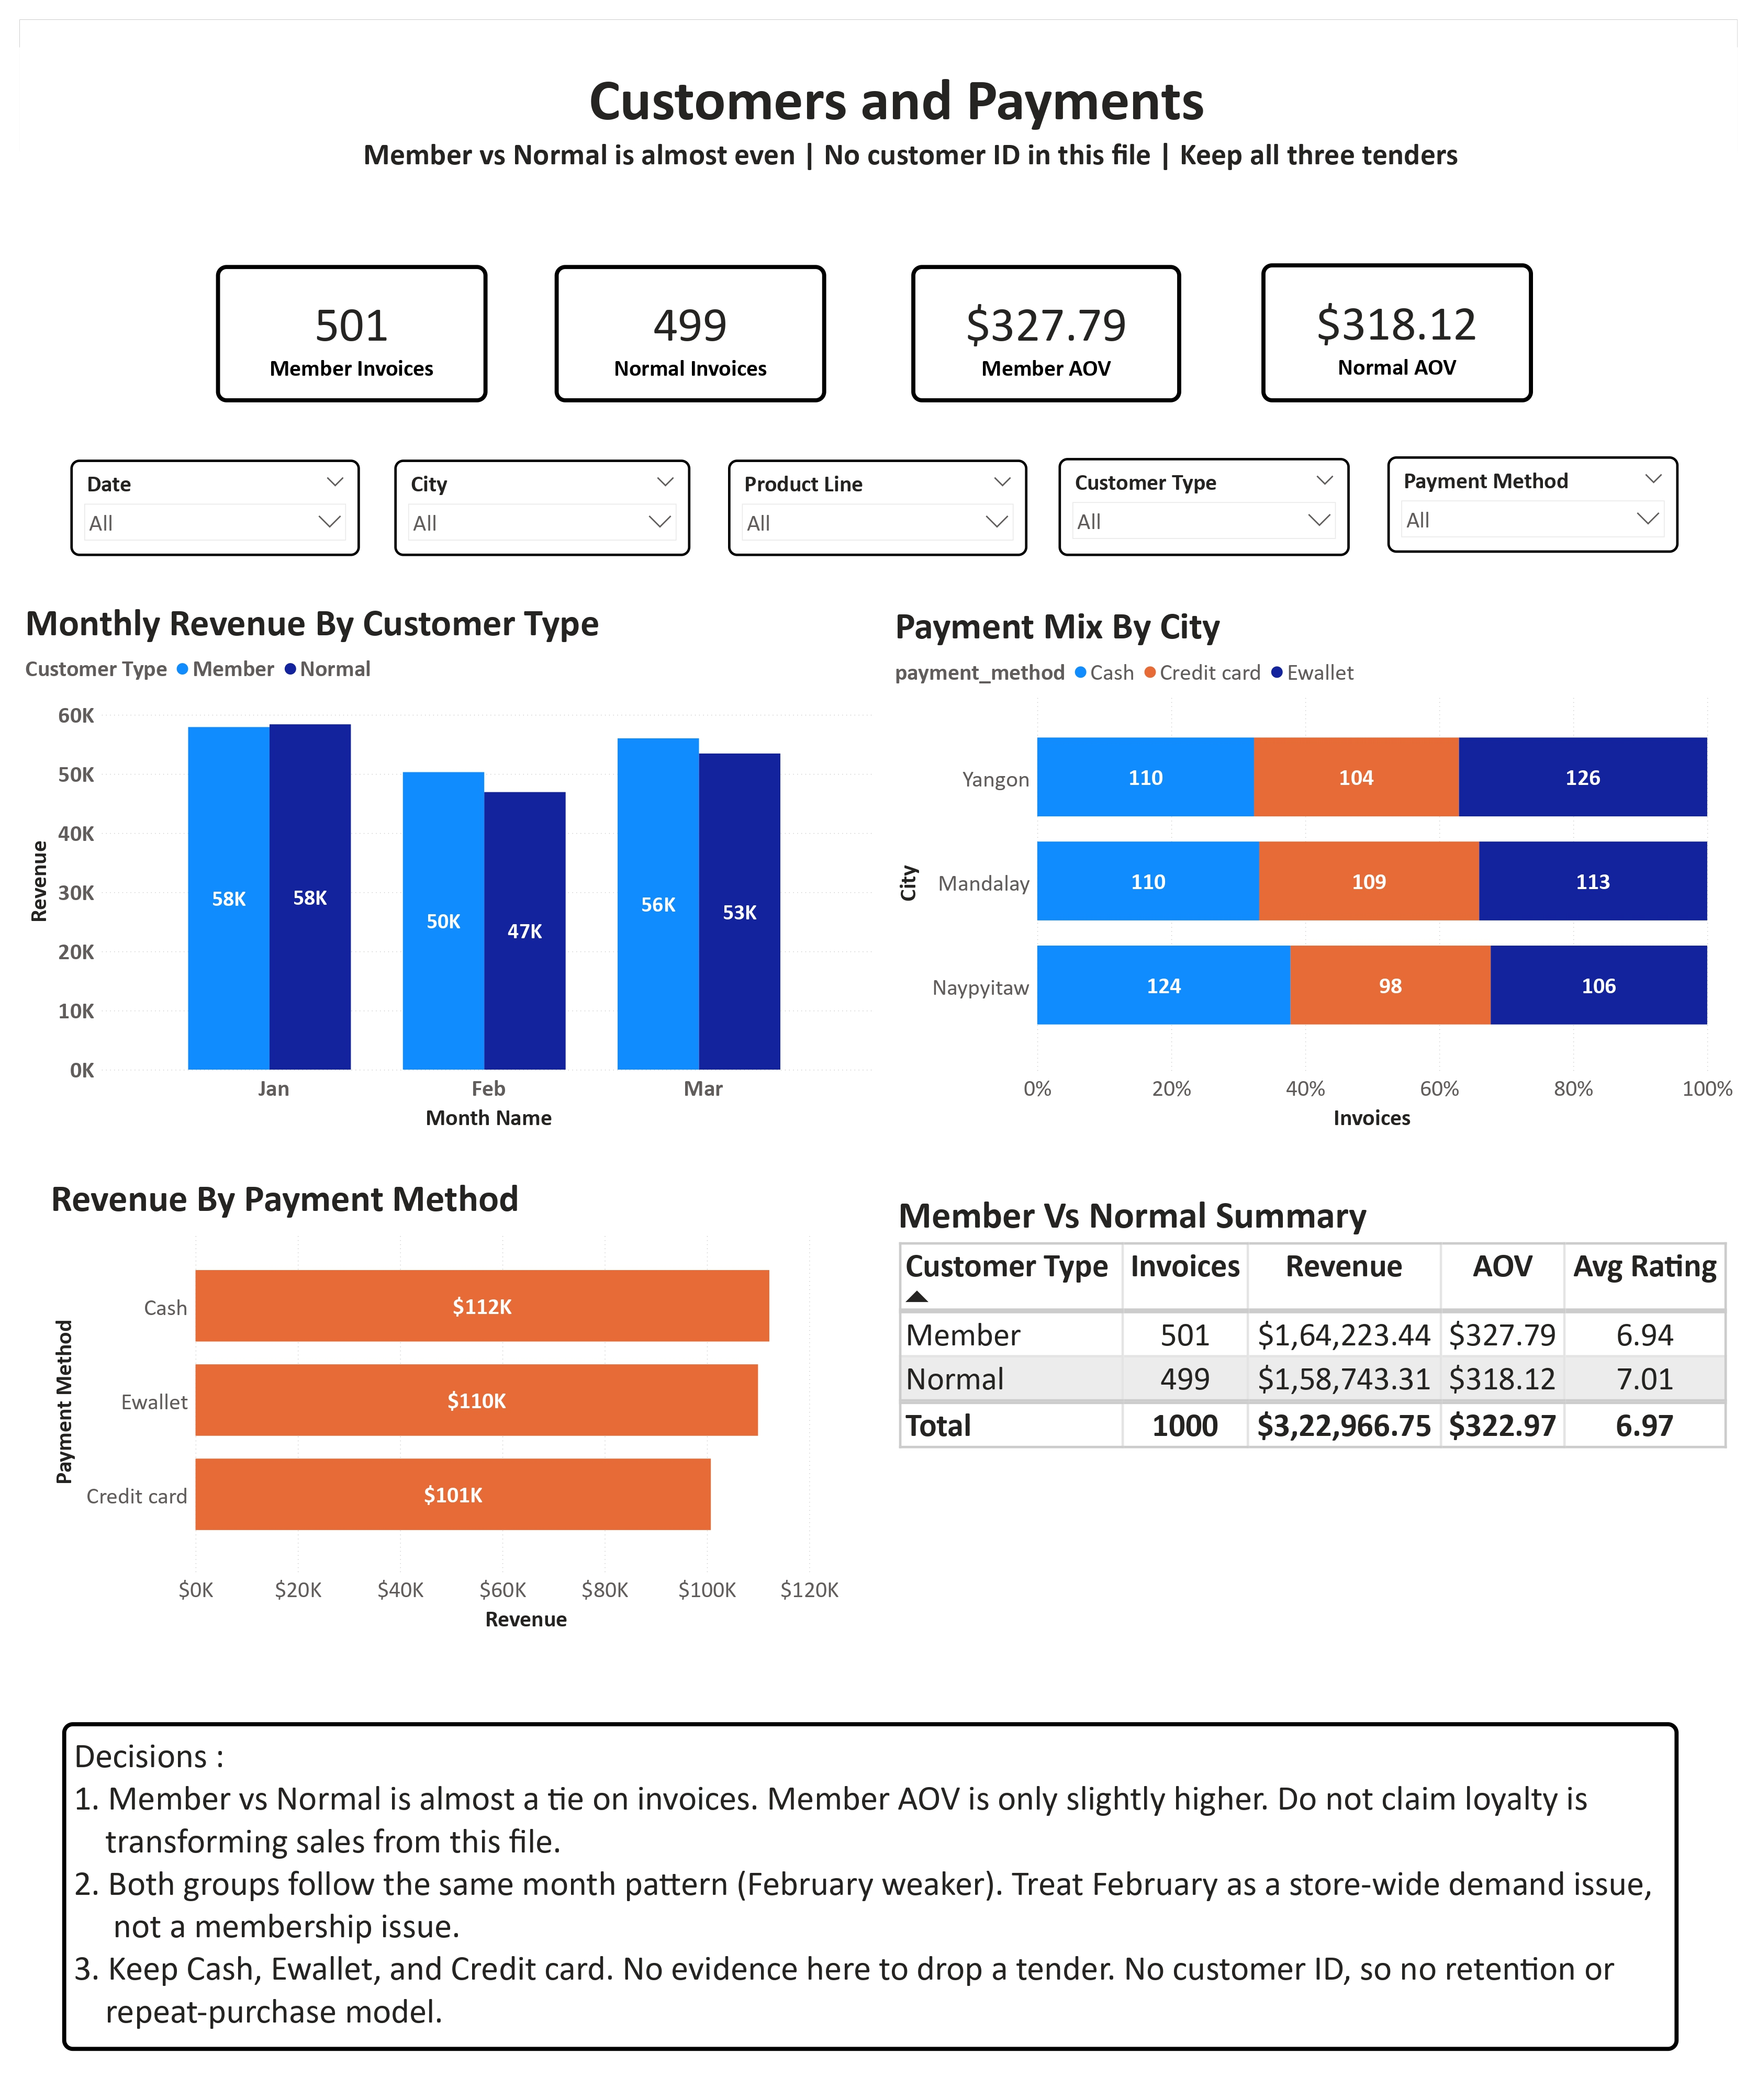

The page's visual inventory and layout, read from the dashboard file:
{"tool":"powerbi","page":{"name":"Page 3","canvas":[2100,2520],"ordinal":2},"visuals":[{"type":"card","fields":{"Values":["sales_transactions.Member Invoices"]},"box":[240,300,332,168],"z":0},{"type":"slicer","fields":{"Values":["DateTable.Date"]},"box":[62,538,354,118],"z":1000},{"type":"slicer","fields":{"Values":["sales_transactions.city"]},"box":[458,538,362,118],"z":2000},{"type":"slicer","fields":{"Values":["sales_transactions.product line"]},"box":[866,538,366,118],"z":3000},{"type":"slicer","fields":{"Values":["sales_transactions.customer_type"]},"box":[1270,536,356,120],"z":4000},{"type":"slicer","fields":{"Values":["sales_transactions.payment_method"]},"box":[1672,534,356,118],"z":5000},{"type":"card","fields":{"Values":["sales_transactions.Normal Invoices"]},"box":[654,300,332,168],"z":6000},{"type":"card","fields":{"Values":["sales_transactions.Member AOV"]},"box":[1090,300,330,168],"z":7000},{"type":"card","fields":{"Values":["sales_transactions.Normal AOV"]},"box":[1518,298,332,170],"z":8000},{"type":"textbox","box":[26,48,1848,150],"z":9000},{"type":"tableEx","title":"Member Vs Normal Summary","fields":{"Values":["sales_transactions.customer_type","sales_transactions.Invoices","sales_transactions.Revenue","sales_transactions.AOV","sales_transactions.Avg Rating"]},"box":[1068.9,1433.3,1024.4,328.9],"z":10000},{"type":"hundredPercentStackedBarChart","title":"Payment Mix By City","fields":{"Category":["sales_transactions.City"],"Series":["sales_transactions.payment_method"],"Y":["sales_transactions.Invoices"]},"box":[1065,712.7,1035,652.6],"z":11000},{"type":"textbox","box":[52,2082,1975.9,402.4],"z":12000},{"type":"clusteredColumnChart","title":"Monthly Revenue By Customer Type","fields":{"Category":["DateTable.Month"],"Y":["sales_transactions.Revenue"],"Series":["sales_transactions.Customer Type"]},"box":[2,708.7,1049,656.6],"z":13000},{"type":"clusteredBarChart","title":"Revenue By Payment Method","fields":{"Category":["sales_transactions.payment_method"],"Y":["sales_transactions.Revenue"]},"box":[33.3,1413.3,1031.1,564.4],"z":14000}]}

Visuals, with their boxes on the page's 2100x2520 design canvas (x1, y1, x2, y2). These are canvas units, not pixel positions in the 1757x2100 screenshot, which may show the page scaled, cropped or inside an application window:
card - sales_transactions.Member Invoices: bbox(240, 300, 572, 468)
slicer - DateTable.Date: bbox(62, 538, 416, 656)
slicer - sales_transactions.city: bbox(458, 538, 820, 656)
slicer - sales_transactions.product line: bbox(866, 538, 1232, 656)
slicer - sales_transactions.customer_type: bbox(1270, 536, 1626, 656)
slicer - sales_transactions.payment_method: bbox(1672, 534, 2028, 652)
card - sales_transactions.Normal Invoices: bbox(654, 300, 986, 468)
card - sales_transactions.Member AOV: bbox(1090, 300, 1420, 468)
card - sales_transactions.Normal AOV: bbox(1518, 298, 1850, 468)
textbox: bbox(26, 48, 1874, 198)
"Member Vs Normal Summary" tableEx: bbox(1069, 1433, 2093, 1762)
"Payment Mix By City" hundredPercentStackedBarChart: bbox(1065, 713, 2100, 1365)
textbox: bbox(52, 2082, 2028, 2484)
"Monthly Revenue By Customer Type" clusteredColumnChart: bbox(2, 709, 1051, 1365)
"Revenue By Payment Method" clusteredBarChart: bbox(33, 1413, 1064, 1978)
